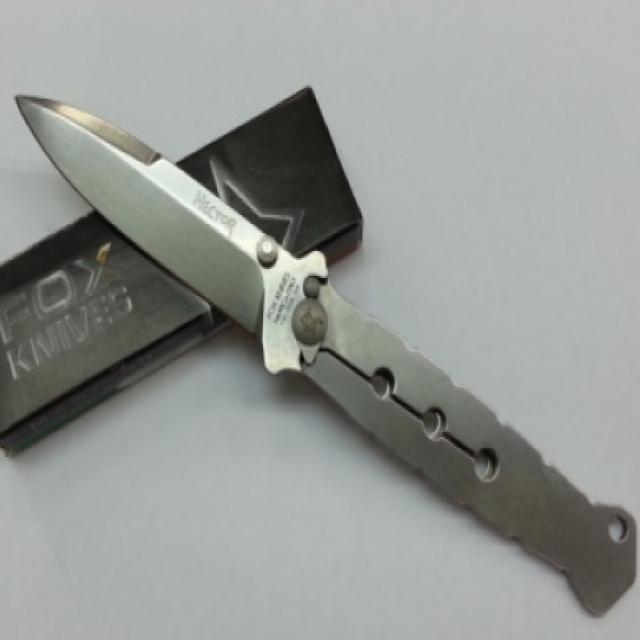knife: (13, 87, 640, 628)
